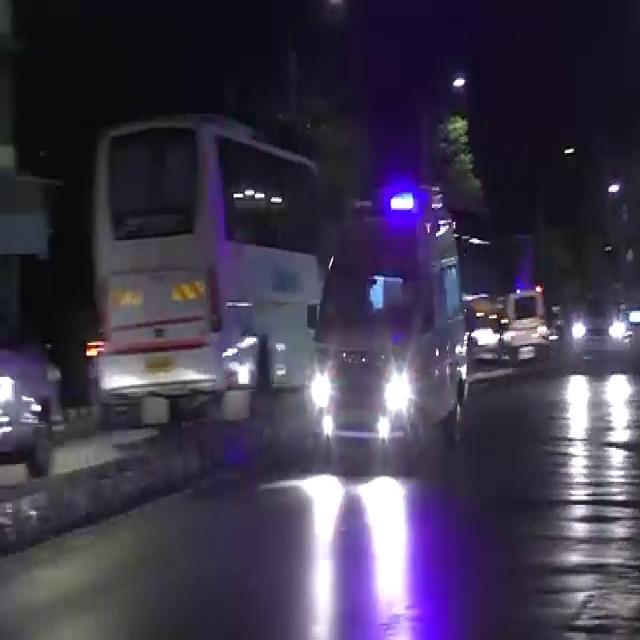ambulance: (315, 176, 481, 450)
